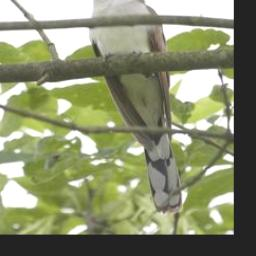Cuckoo: (70, 0, 183, 214)
